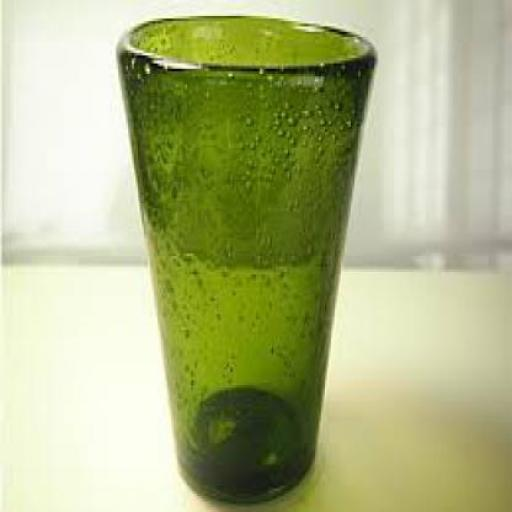glass: (116, 13, 374, 501)
